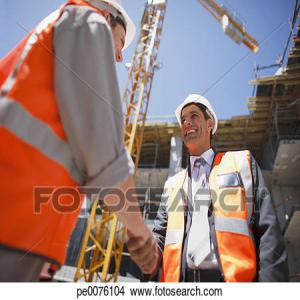white: (88, 2, 134, 66), (179, 94, 217, 149)
